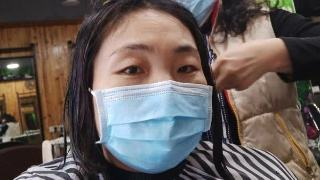Mask: (83, 9, 214, 172)
